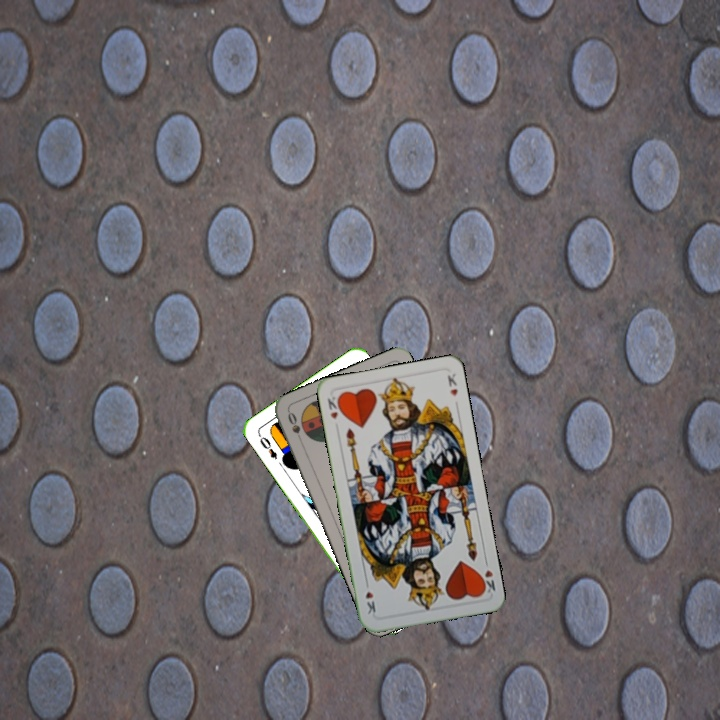EO: (254, 430, 280, 462)
HK: (476, 555, 498, 597), (323, 392, 344, 422)
SO: (284, 408, 306, 447)
